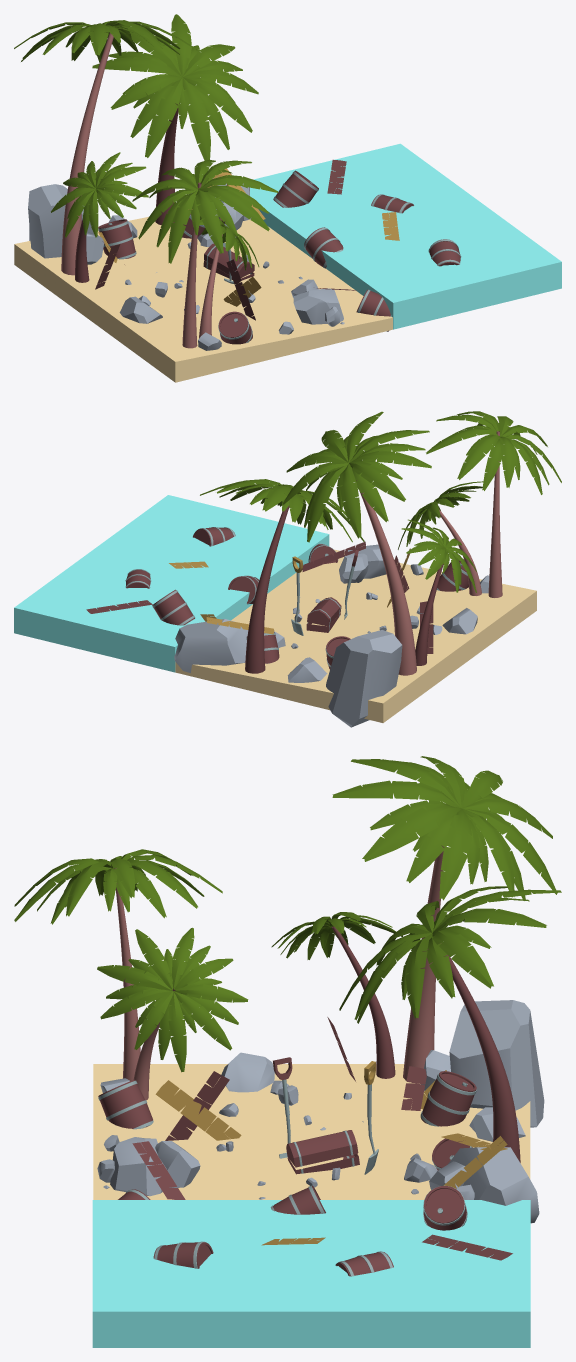
File: treasure_island.glb
The picture shows the model from 3 angles, top to bottom: view 1: azimuth 30°, elevation 25°; view 2: azimuth 150°, elevation 25°; view 3: azimuth 270°, elevation 25°; orthographic projection. The views are drawn at different scales.
Parts seen in each view (by area): view 1: sea, sand, foliage, foliage.3, foliage.5, foliage.4, rock.010, trunk.4, rock.012, trunk.3, trunk, barrel.004 (+14 smaller); view 2: sea, sand, foliage.4, rock.010, foliage.3, rock.004, foliage, trunk.4, trunk, foliage.5, trunk.3, foliage.2 (+14 smaller); view 3: sea, sand, foliage.4, foliage.2, foliage, rock.010, foliage.3, rock.004, trunk, trunk.4, foliage.5, barrel (+19 smaller).
Part boxes in pixels (x1,y1,x2,y2): sea: [250, 143, 561, 329]; sand: [14, 216, 392, 382]; foliage: [92, 14, 258, 160]; foliage.3: [132, 159, 278, 263]; foliage.5: [51, 152, 148, 237]; foliage.4: [14, 20, 196, 62]; rock.010: [28, 184, 93, 258]; trunk.4: [61, 33, 113, 275]; rock.012: [293, 288, 343, 324]; trunk.3: [182, 182, 201, 348]; trunk: [155, 103, 179, 224]; barrel.004: [273, 170, 318, 207]; sea: [14, 495, 329, 672]; sand: [175, 549, 536, 722]; foliage.4: [283, 411, 431, 542]; rock.010: [326, 630, 402, 727]; foliage.3: [426, 411, 561, 494]; rock.004: [174, 618, 248, 672]; foliage: [200, 479, 364, 542]; trunk.4: [356, 480, 416, 675]; trunk: [245, 505, 289, 673]; foliage.5: [401, 519, 476, 592]; trunk.3: [488, 431, 502, 597]; foliage.2: [398, 481, 483, 549]; sea: [92, 1200, 530, 1347]; sand: [93, 1064, 530, 1199]; foliage.4: [332, 756, 557, 900]; foliage.2: [97, 927, 248, 1072]; foliage: [339, 886, 561, 1023]; rock.010: [449, 1000, 544, 1127]; foliage.3: [14, 849, 222, 924]; rock.004: [447, 1147, 539, 1223]; trunk: [441, 943, 520, 1162]; trunk.4: [403, 845, 444, 1082]; foliage.5: [271, 912, 402, 959]; barrel: [420, 1071, 476, 1126].
Size of what is drawn, in the model's own units: 10.25 by 6.54 by 8.75.
